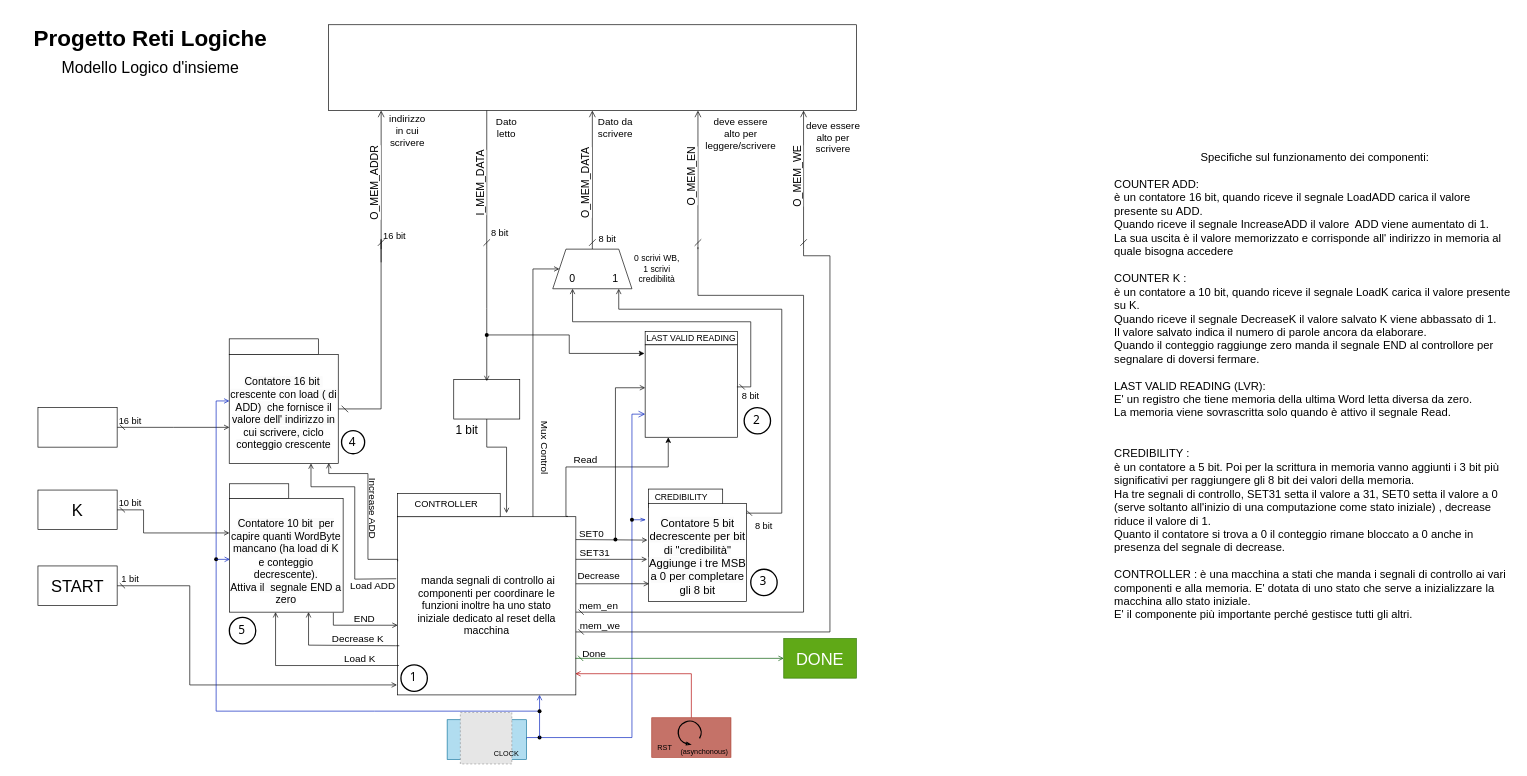
This 1527x776 diagram has some shape labels left out. Grey dashed boxes stand in for pictures. The shapes that lost their labels are listed below. From the top down, each one's box as (x1, y1, x2, y2) in pixels, then its label:
(328, 24, 856, 111): Memoria esterna
(552, 248, 632, 289): MUX
(229, 338, 318, 354): COUNTER ADD
(453, 379, 520, 419): Lettura Zero
(644, 344, 738, 437): Memoria dell'ultimo dato letto diverso da 0 (Viene Inizializzato a 0)
(37, 407, 117, 447): ADD
(229, 483, 289, 498): COUNTER K
